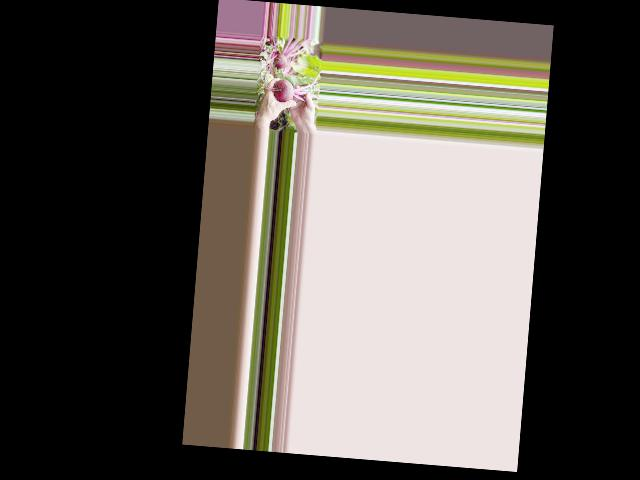beet: (271, 66, 321, 106)
